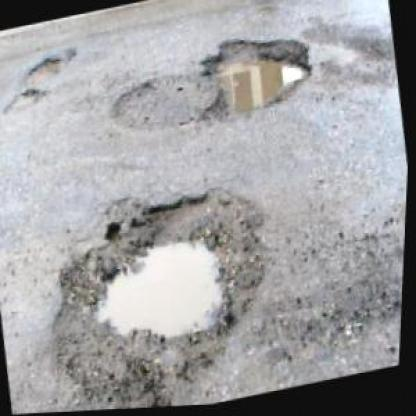pothole: (34, 172, 296, 413), (186, 22, 322, 128), (23, 43, 80, 87), (1, 83, 50, 117)
